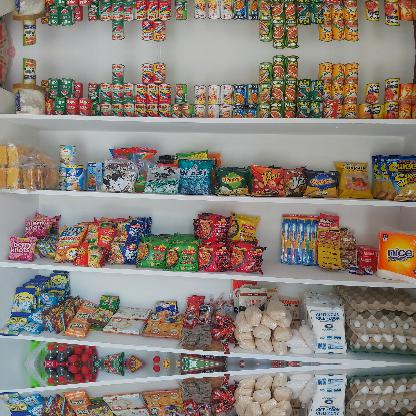Lady-s-Choice: (10, 82, 48, 115), (10, 0, 48, 22)
